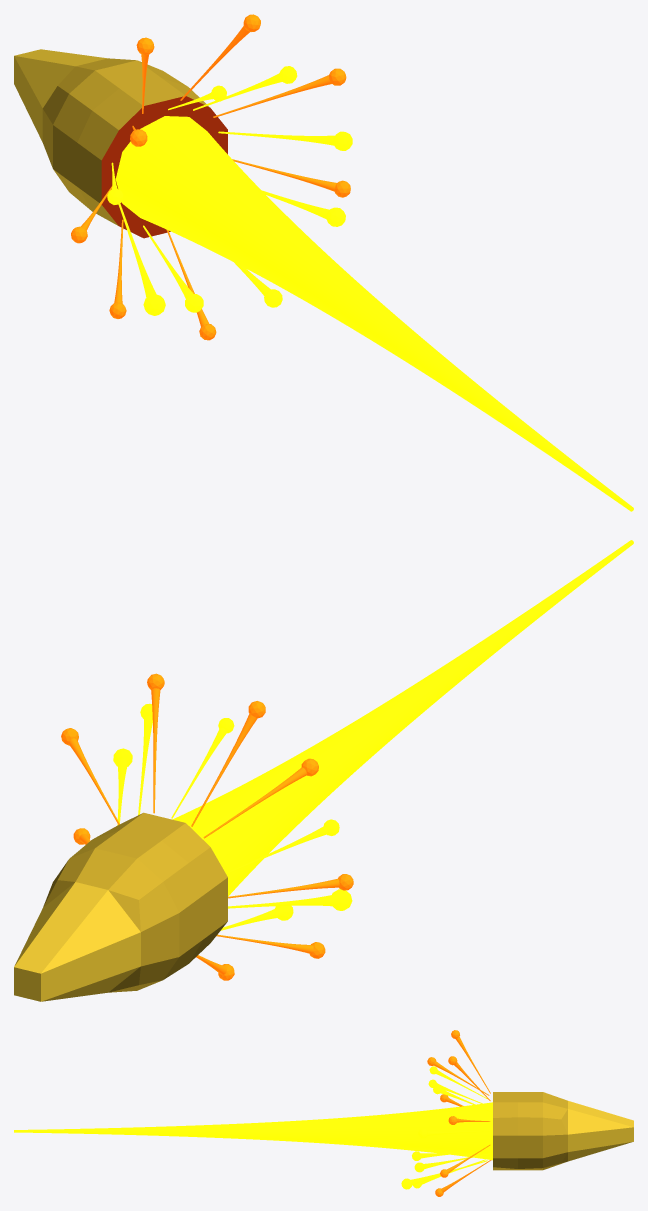
The model's file is RocketBoost.fbx.
The picture shows the model from 3 angles, top to bottom: view 1: azimuth 30°, elevation 25°; view 2: azimuth 150°, elevation 25°; view 3: azimuth 270°, elevation 25°; orthographic projection. The views are drawn at different scales.
Parts seen in each view (by area): view 1: BounceBoost; view 2: BounceBoost; view 3: BounceBoost.
Boxes of the visible parts, x1=… form: BounceBoost: x1=14, y1=14, x2=633, y2=511; BounceBoost: x1=14, y1=540, x2=633, y2=1001; BounceBoost: x1=14, y1=1030, x2=633, y2=1196.
Size of the model in its own units: 42.42 by 43.37 by 158.
